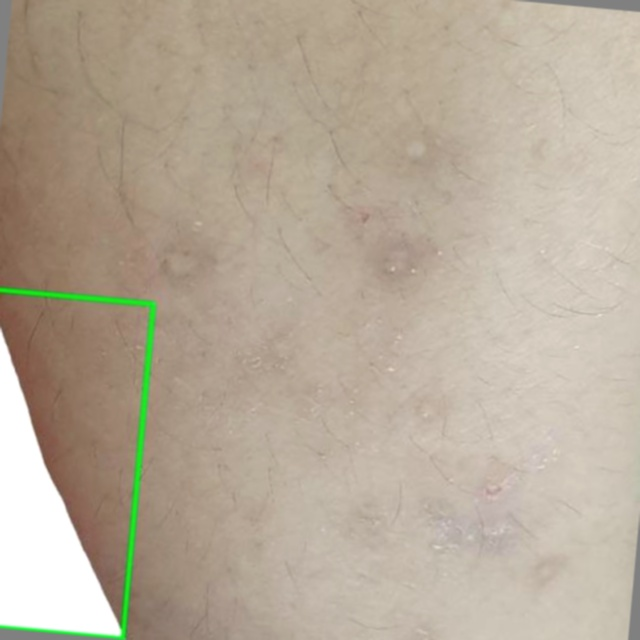Scabies: (0, 289, 153, 638)
